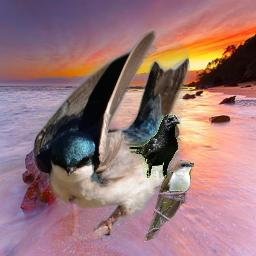Crow: (129, 114, 181, 178)
Cuckoo: (143, 159, 194, 242)
Swallow: (32, 28, 191, 242)
